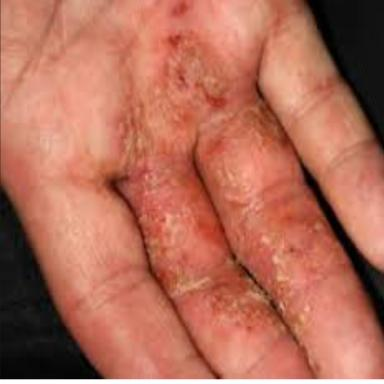eczema: (117, 0, 353, 325)
